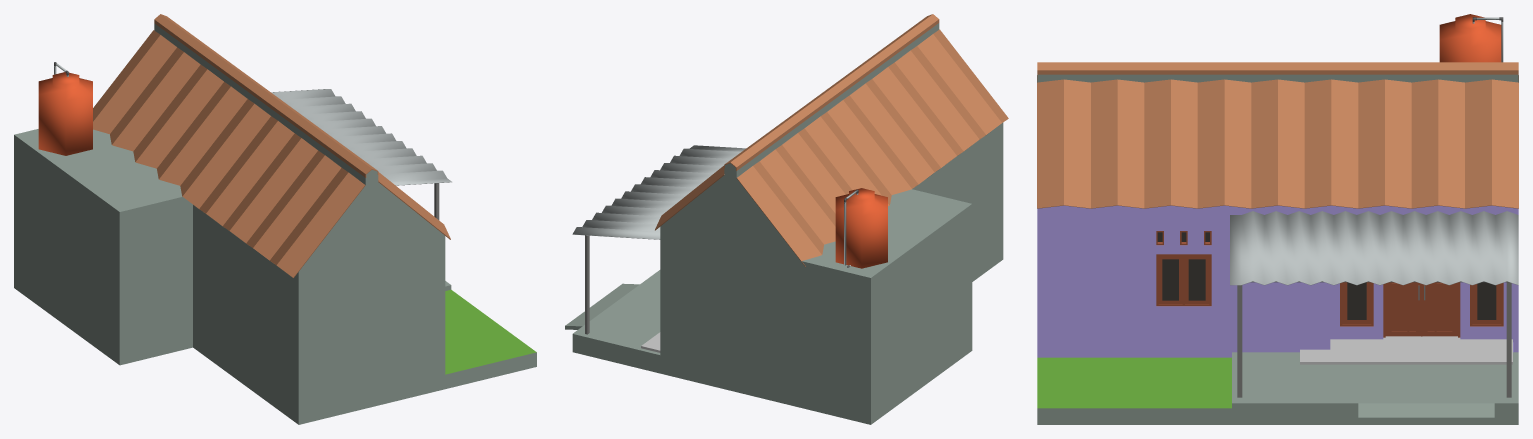
The model's file is House_Type_2_1.fbx.
The picture shows the model from 3 angles, left to right: view 1: azimuth 30°, elevation 25°; view 2: azimuth 150°, elevation 25°; view 3: azimuth 270°, elevation 25°; orthographic projection. The views are drawn at different scales.
Parts seen in each view (by area): view 1: House_Type_2_1_LOD0; view 2: House_Type_2_1_LOD0; view 3: House_Type_2_1_LOD0.
Part boxes in pixels (bbox=[...]): House_Type_2_1_LOD0: bbox=[14, 14, 536, 424]; House_Type_2_1_LOD0: bbox=[565, 14, 1008, 424]; House_Type_2_1_LOD0: bbox=[1037, 14, 1518, 424].
Size of what is drawn, in the model's own units: 900 by 622 by 1001.
